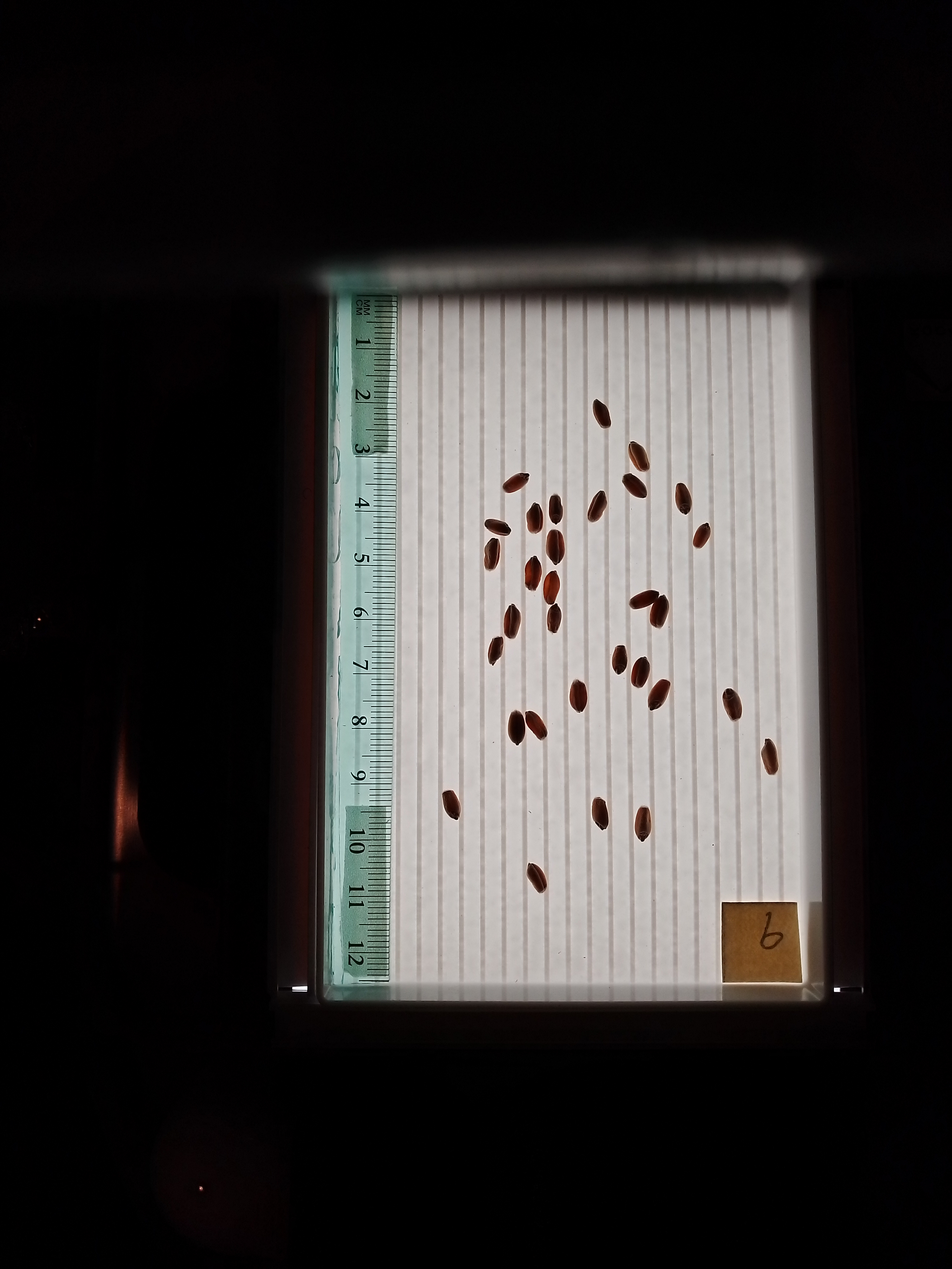seed mask: (648, 679, 670, 710), (628, 442, 650, 472), (546, 530, 565, 564), (761, 740, 779, 775), (526, 711, 547, 740), (650, 596, 669, 628), (723, 689, 742, 721), (569, 680, 588, 712), (635, 806, 652, 841), (524, 557, 542, 590), (588, 491, 607, 522), (623, 474, 647, 498), (592, 797, 609, 830), (527, 864, 547, 892), (508, 712, 525, 744), (632, 657, 650, 687), (504, 605, 520, 638), (504, 473, 528, 494), (675, 483, 691, 514), (484, 539, 500, 570), (443, 791, 460, 820), (630, 591, 657, 609), (527, 504, 543, 534), (543, 573, 559, 603), (611, 645, 627, 674), (593, 400, 610, 427), (485, 518, 510, 536), (548, 495, 563, 524), (693, 524, 711, 548), (547, 605, 562, 633), (488, 637, 503, 664)
